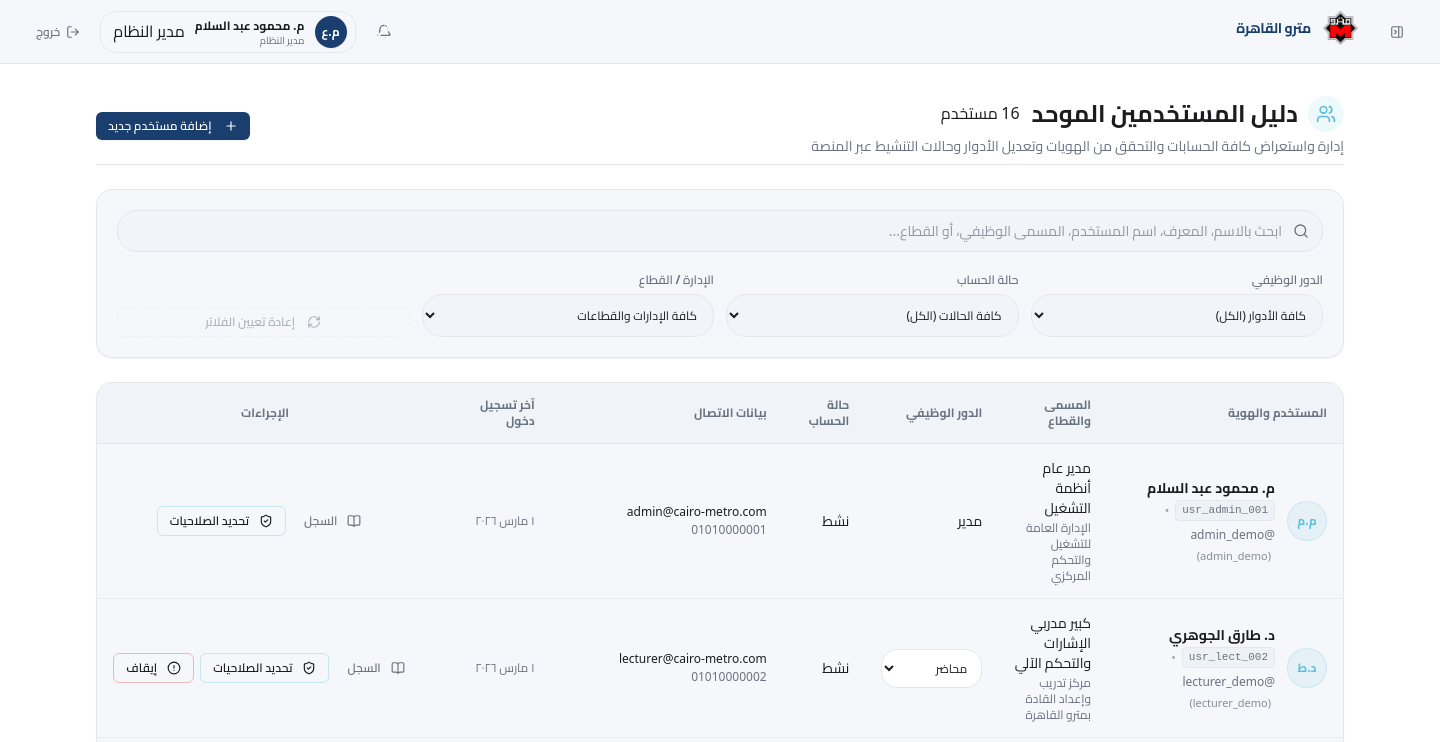
Test case: Increment 11 — Phase 1: Central User Directory Foundation & Seed Data Unification › 6. Empty and Error State Handling › displays empty state when search matches no users and allows resetting
Replace the text in the field with test id "user-search-input" with "اسم_مستحيل_غير_موجود" at (720, 231), box left=117, top=210, right=1323, bottom=252
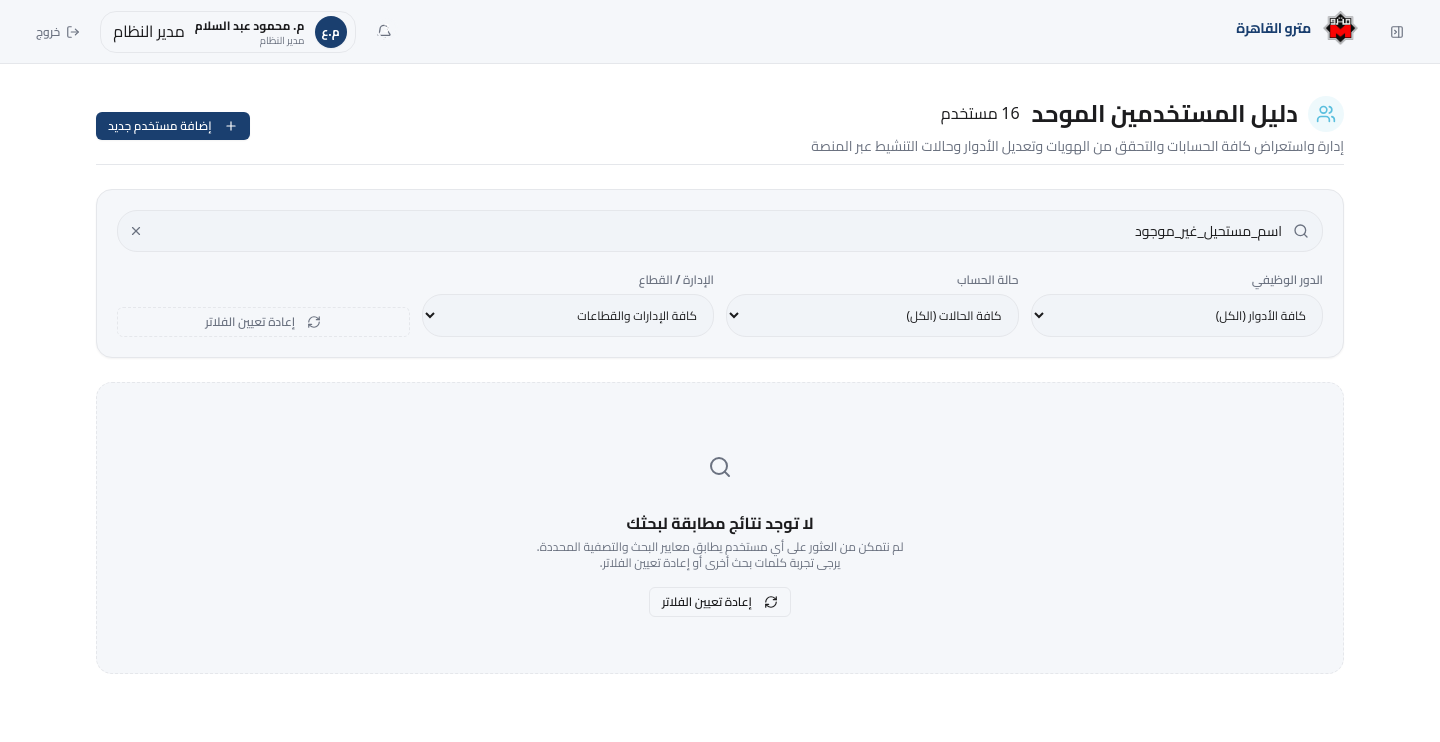
expect the element with test id "empty-users-state" is shown: met, box left=96, top=382, right=1344, bottom=674
expect the heading "لا توجد نتائج مطابقة لبحثك" is shown: met, box left=626, top=508, right=814, bottom=538
Click the button with test id "empty-state-reset-btn" at (720, 602), box left=649, top=587, right=791, bottom=617
(page scrolled)
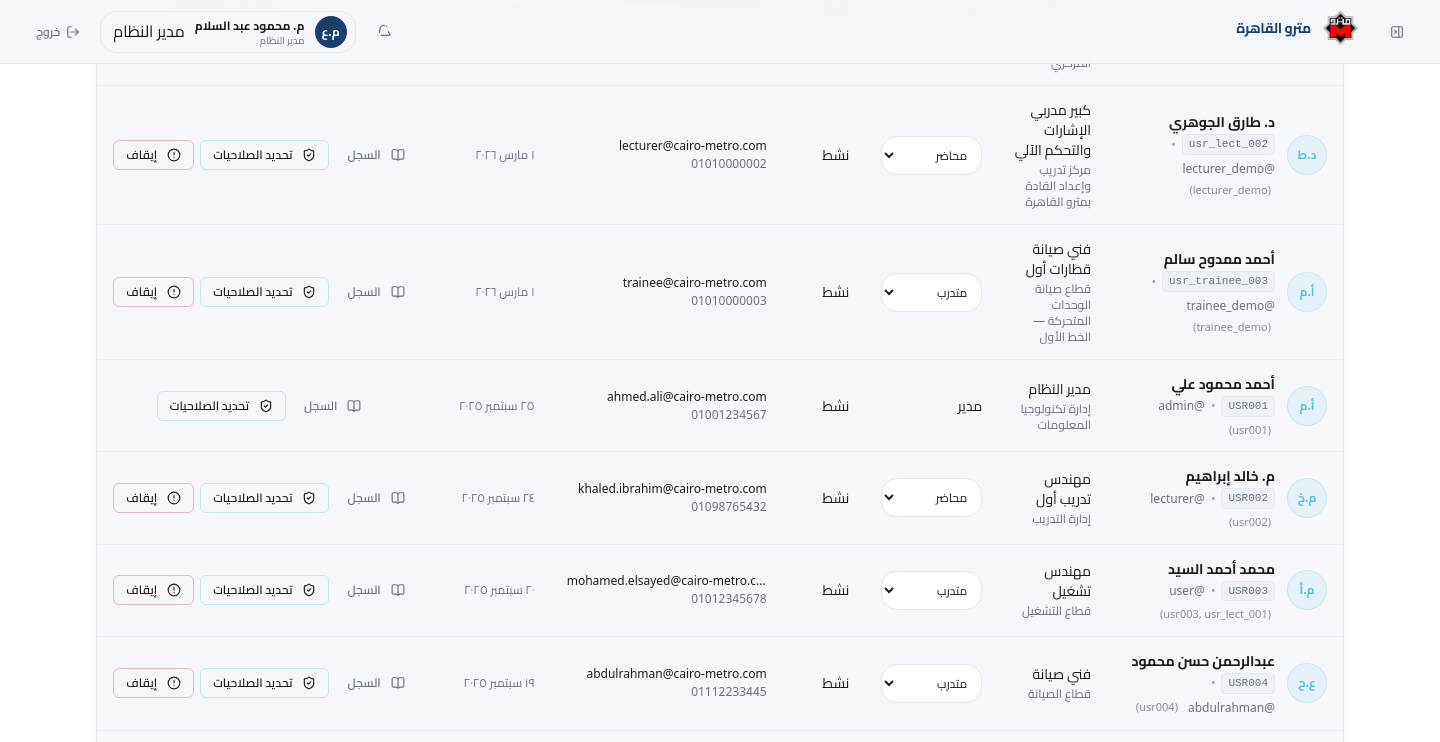
expect the row with test id "user-row-USR001" is shown: met, box left=97, top=360, right=1343, bottom=452
